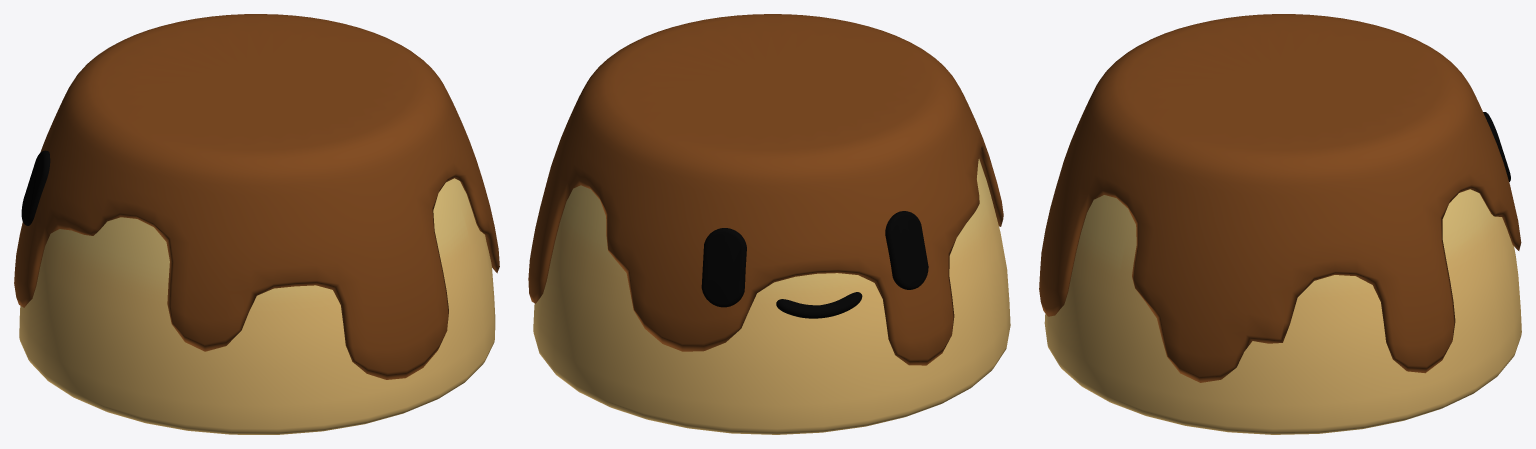
Rendered from Character_Pudding2.fbx.
3 views of the same model, side by side, from view 1: azimuth 30°, elevation 25°; view 2: azimuth 150°, elevation 25°; view 3: azimuth 270°, elevation 25° (orthographic).
Visible parts, largest first — view 1: Cylinder; view 2: Cylinder; view 3: Cylinder.
Boxes of the visible parts, <box> form: Cylinder: <box>14,14,499,434</box>; Cylinder: <box>528,14,1010,434</box>; Cylinder: <box>1039,14,1521,434</box>.
Bounding box in the file's own units: 203 × 119 × 205.
